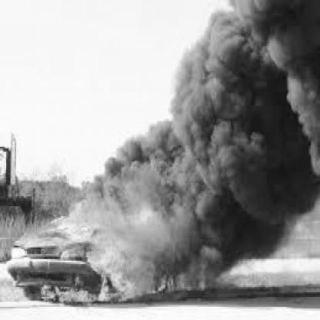Fire: (36, 156, 208, 300)
Smoke: (204, 0, 316, 252), (177, 48, 203, 154)
